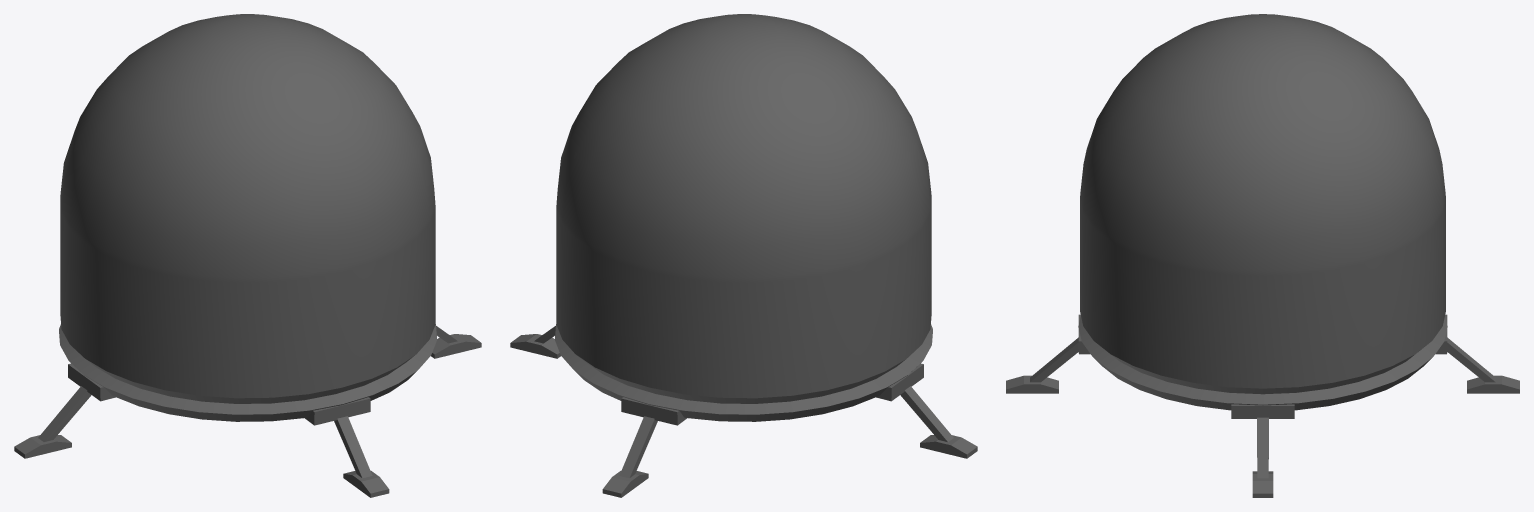
File: House.gltf
3 views of the same model, side by side, from view 1: azimuth 30°, elevation 25°; view 2: azimuth 150°, elevation 25°; view 3: azimuth 270°, elevation 25° (orthographic). The views are drawn at different scales.
Visible parts, largest first — view 1: House; view 2: House; view 3: House.
Part boxes in pixels (x1,y1,x2,y2): House: (14,14,481,497); House: (510,14,977,497); House: (1006,14,1519,497).
Size of the model in its own units: 9.71 by 7.48 by 9.71.
Materials: 1 (1 with a texture image).
